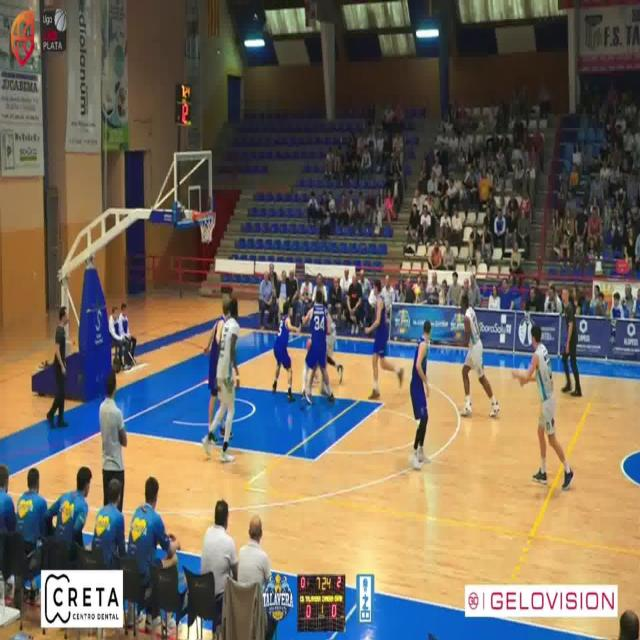ball: (306, 335, 312, 352)
basket: (192, 209, 215, 243)
bench person: (98, 370, 127, 512)
player: (513, 324, 574, 490), (203, 297, 239, 463), (460, 291, 501, 417), (365, 279, 404, 399), (302, 287, 335, 404), (203, 296, 229, 429), (409, 320, 432, 470), (272, 299, 300, 401), (327, 310, 344, 383), (310, 372, 315, 392)
referee: (46, 305, 68, 427), (562, 287, 583, 396)
